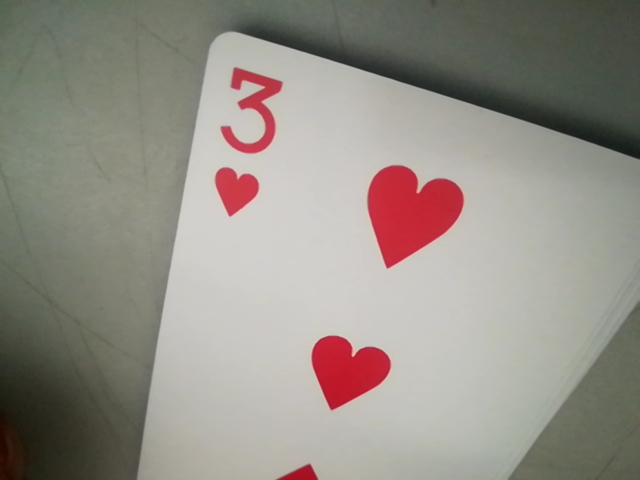hx 3: (204, 50, 286, 217)
